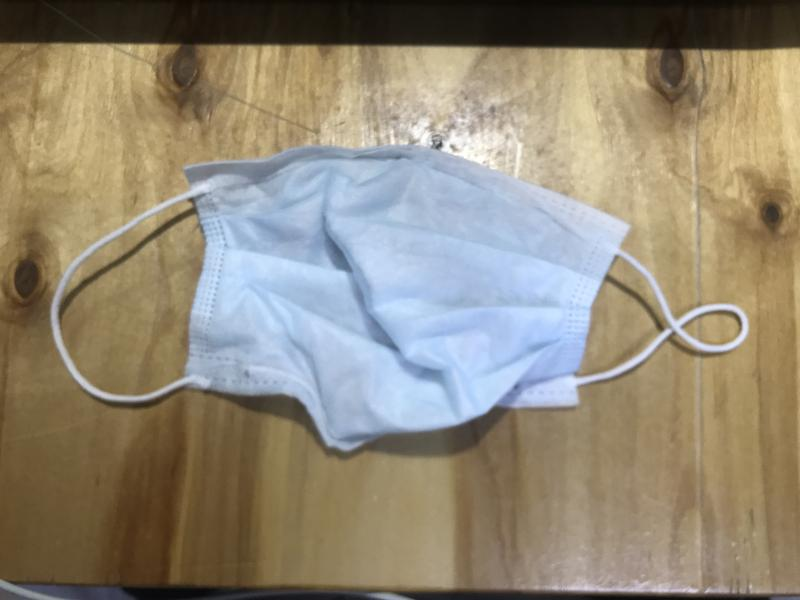medical_mask: (49, 146, 748, 452)
